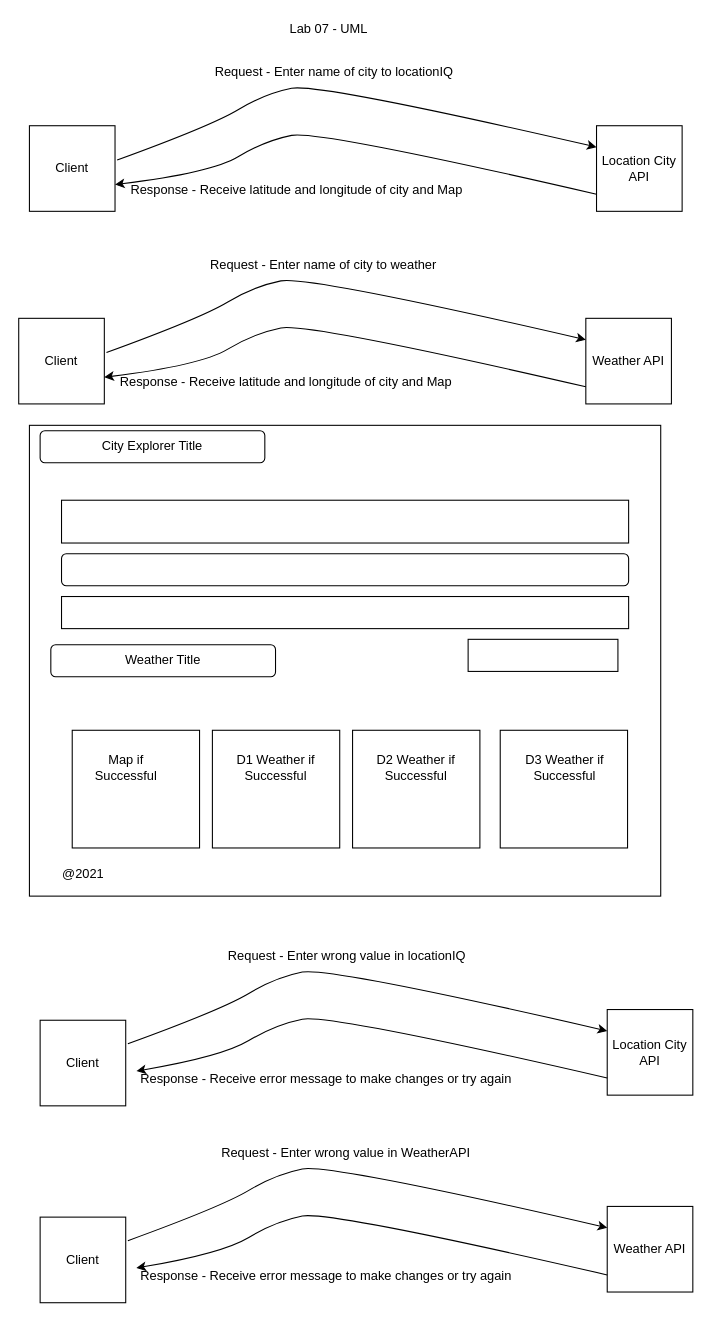
The diagram is 712 pixels wide and 1321 high, and some of its shapes have lost their labels. The box of each missing label's shape, as (x1, y1, x2, y2) in pixels:
City name Input: (60, 553, 629, 586)
Error if Not Successful: (467, 638, 618, 671)
Lat/Long Display: (60, 499, 629, 543)
Submit Button: (60, 595, 629, 629)
